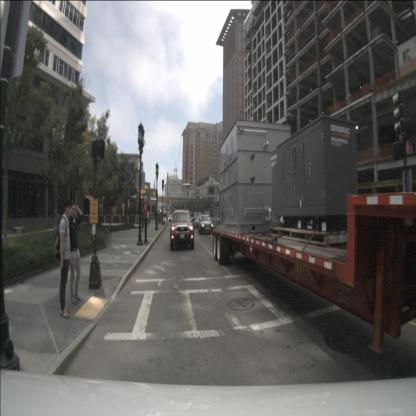human-pedestrian-adult: (54, 199, 73, 319), (66, 203, 84, 307), (140, 207, 146, 233), (146, 209, 150, 228), (153, 210, 155, 222)
vehicle-car: (169, 210, 195, 250), (198, 214, 214, 234), (193, 215, 201, 228)
